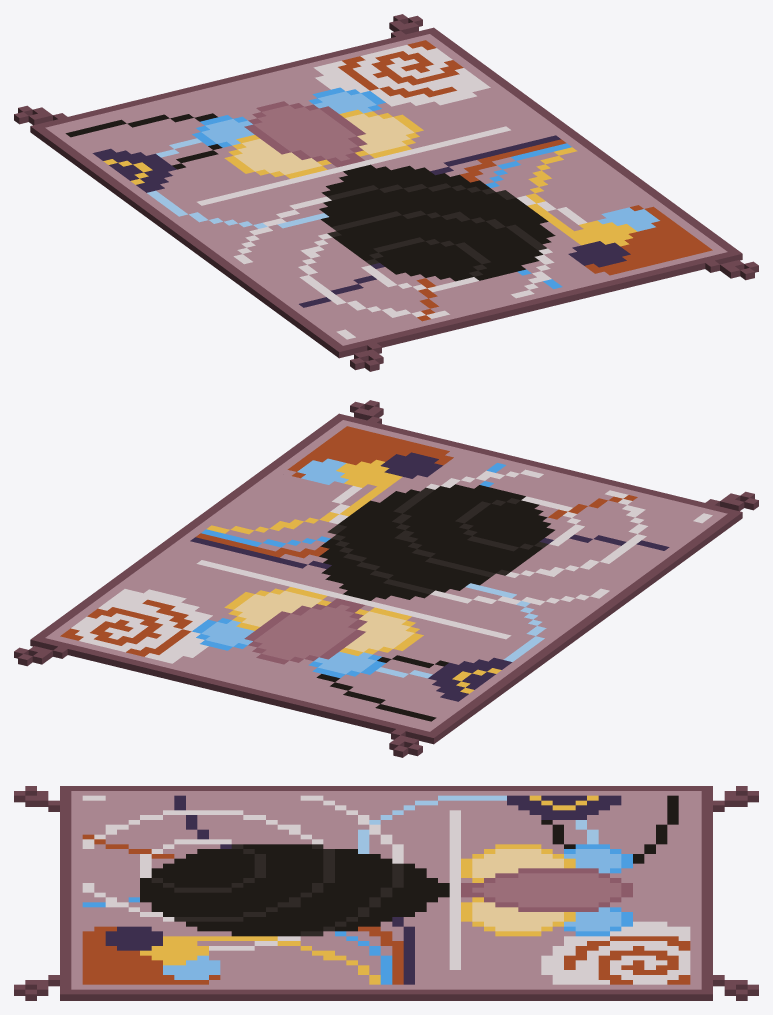
The model's file is CSG1N6S2.glb.
3 renders of one model, top to bottom at view 1: azimuth 30°, elevation 25°; view 2: azimuth 150°, elevation 25°; view 3: azimuth 270°, elevation 25°, orthographic. The views are drawn at different scales.
Visible parts, largest first — view 1: Curve.1453; view 2: Curve.1453; view 3: Curve.1453.
Boxes of the visible parts, x1,y1,x2,y2 form: Curve.1453: (14, 14, 758, 371); Curve.1453: (14, 400, 758, 757); Curve.1453: (14, 786, 758, 1000).
Bounding box in the file's own units: 0.8153 × 0.012 × 1.23.
